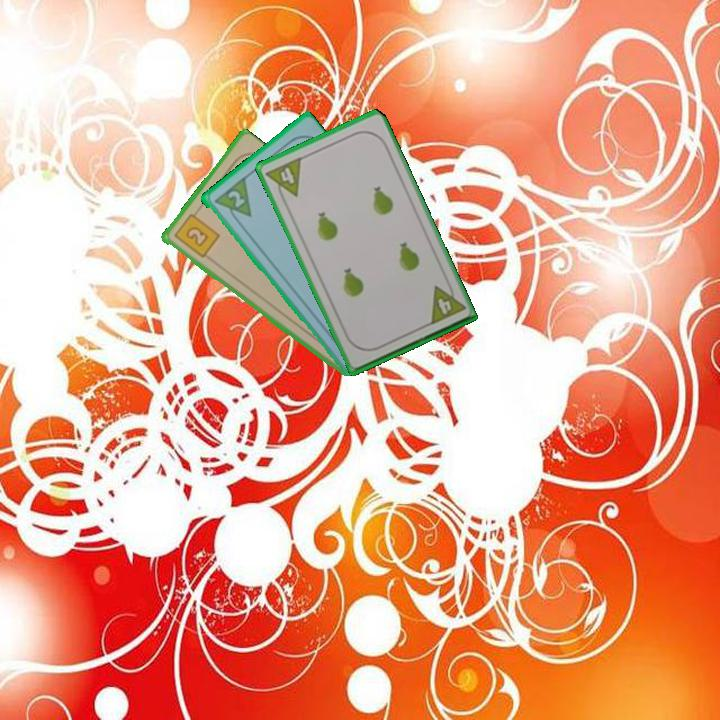2b: (170, 206, 222, 261)
2p: (210, 174, 254, 227)
4p: (262, 153, 304, 205), (425, 277, 467, 328)
